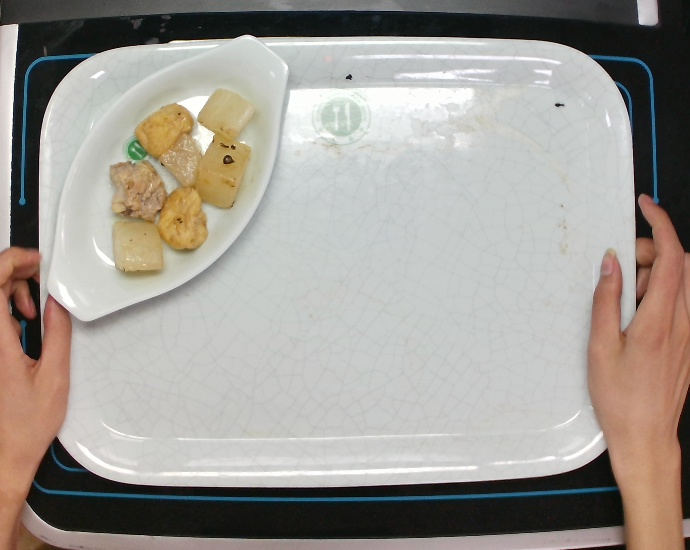JYsf-Yu_Pan: (42, 32, 293, 324)
